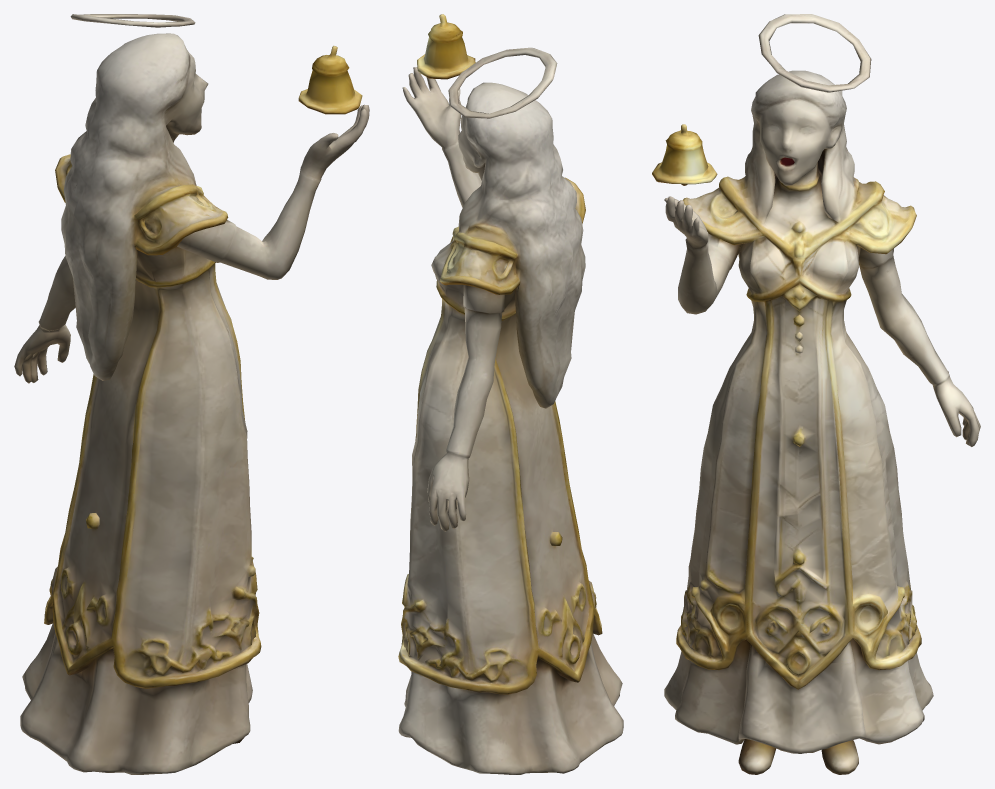
The picture shows the model from 3 angles, left to right: view 1: azimuth 30°, elevation 25°; view 2: azimuth 150°, elevation 25°; view 3: azimuth 270°, elevation 25°; orthographic projection. The views are drawn at different scales.
Visible parts, largest first — view 1: tripo_node_f3fc1a93-c866-48e4-b1fa-7dafc09a2b31; view 2: tripo_node_f3fc1a93-c866-48e4-b1fa-7dafc09a2b31; view 3: tripo_node_f3fc1a93-c866-48e4-b1fa-7dafc09a2b31.
Boxes of the visible parts, left/top/right/bottom form: tripo_node_f3fc1a93-c866-48e4-b1fa-7dafc09a2b31: left=14, top=14, right=369, bottom=774; tripo_node_f3fc1a93-c866-48e4-b1fa-7dafc09a2b31: left=398, top=14, right=623, bottom=774; tripo_node_f3fc1a93-c866-48e4-b1fa-7dafc09a2b31: left=652, top=14, right=980, bottom=774.
Size of the model in its own units: 0.3757 by 1 by 0.4227.
Materials: 1 (1 with a texture image).
